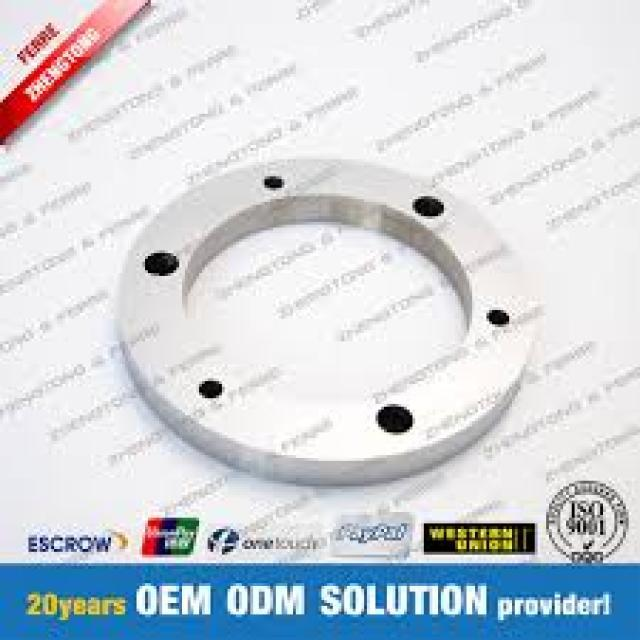Dry Waste: (75, 132, 570, 492)
